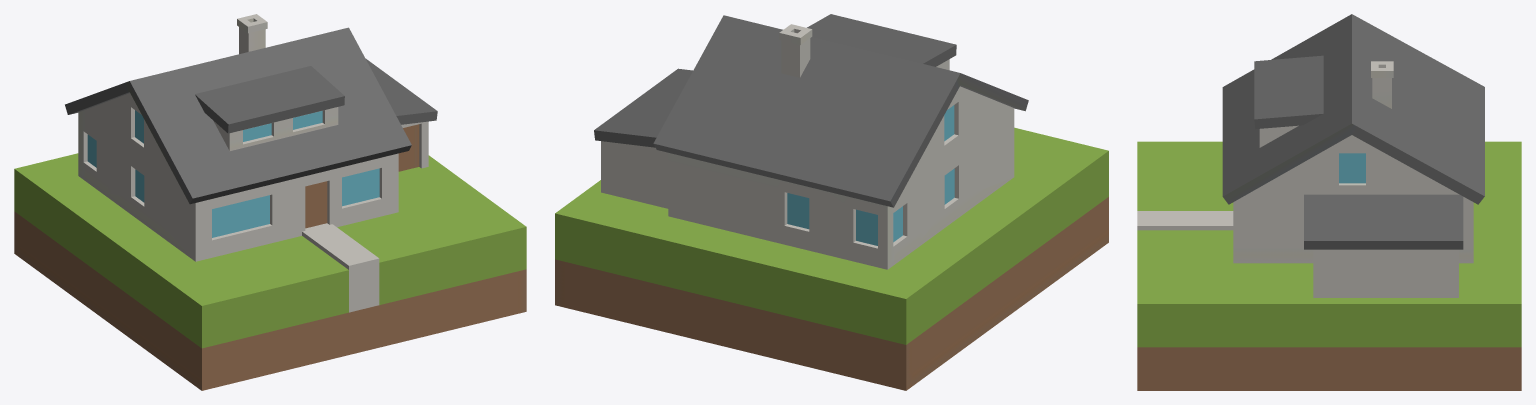
The model's file is building-house2.obj.
The picture shows the model from 3 angles, left to right: view 1: azimuth 30°, elevation 25°; view 2: azimuth 150°, elevation 25°; view 3: azimuth 270°, elevation 25°; orthographic projection. The views are drawn at different scales.
Visible parts, largest first — view 1: house-small-garage_Cube.000; view 2: house-small-garage_Cube.000; view 3: house-small-garage_Cube.000.
Boxes of the visible parts, bbox=[...] form: house-small-garage_Cube.000: bbox=[14, 14, 526, 390]; house-small-garage_Cube.000: bbox=[555, 14, 1108, 390]; house-small-garage_Cube.000: bbox=[1137, 14, 1521, 390].
Bounding box in the file's own units: 8 × 5.69 × 8.
